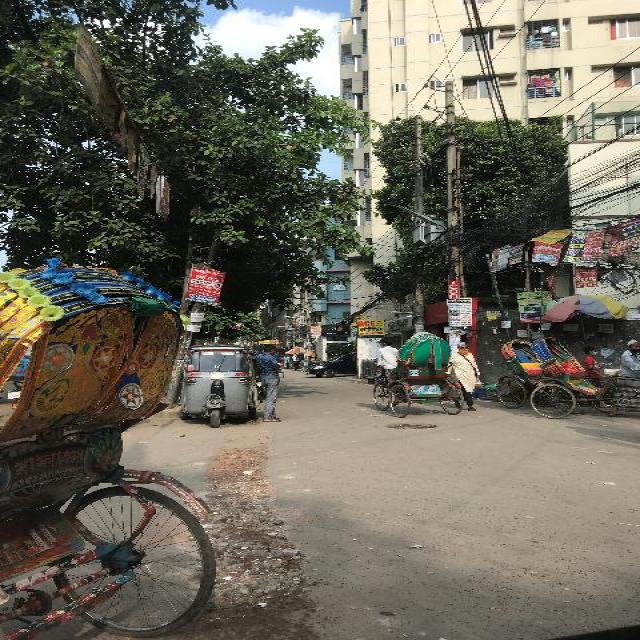vehicle: (2, 262, 184, 640), (533, 337, 640, 420), (371, 331, 463, 419), (191, 345, 263, 429), (500, 340, 540, 413), (305, 354, 357, 378)
